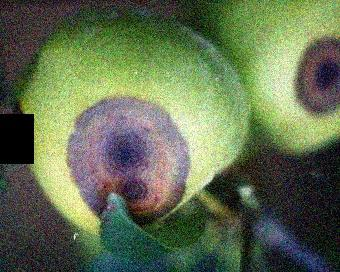rotten apple: (13, 10, 249, 248), (204, 0, 338, 160)
